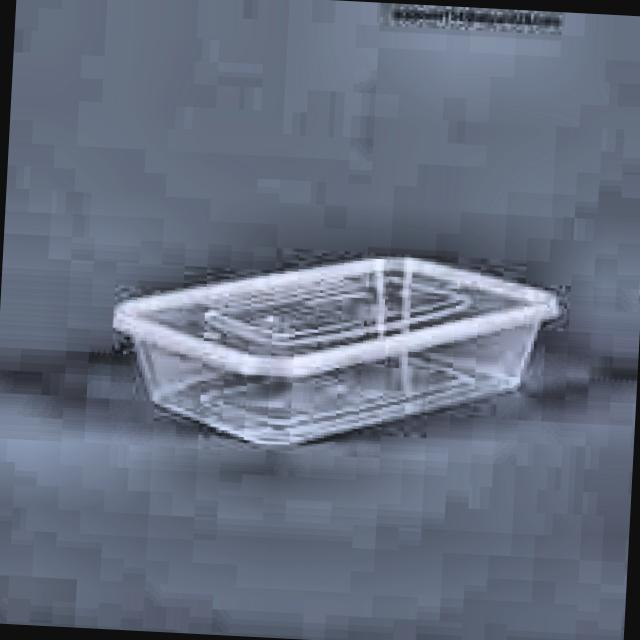plastic container: (114, 257, 559, 447)
